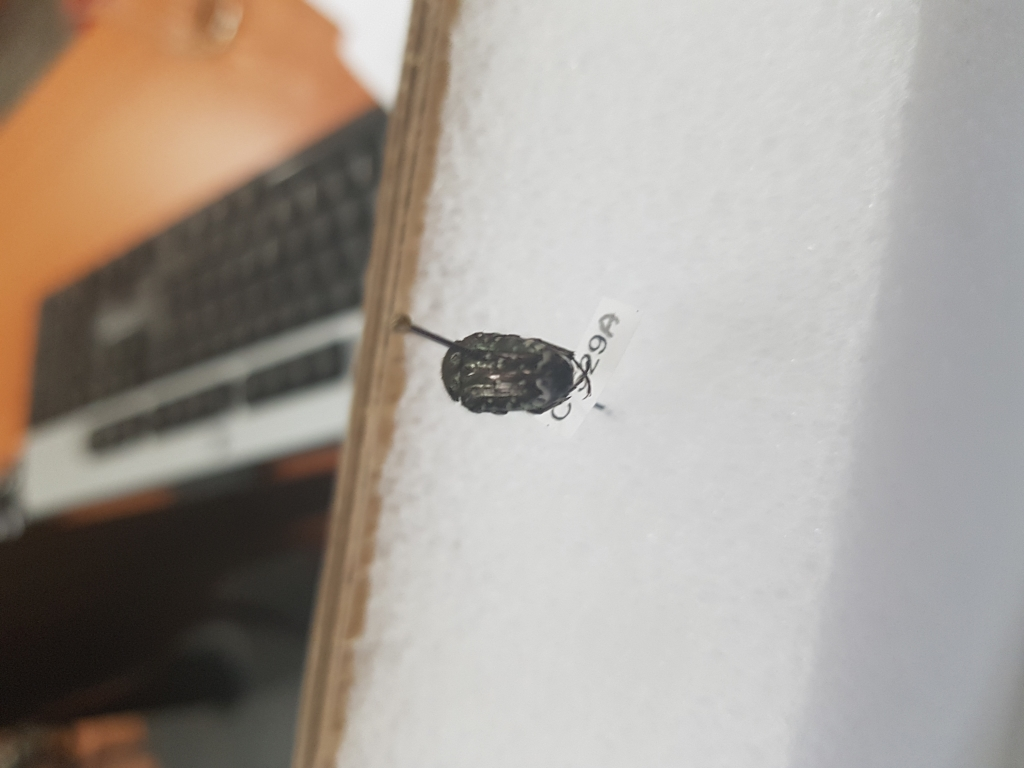Oxythyrea_funesta: (442, 321, 592, 437)
